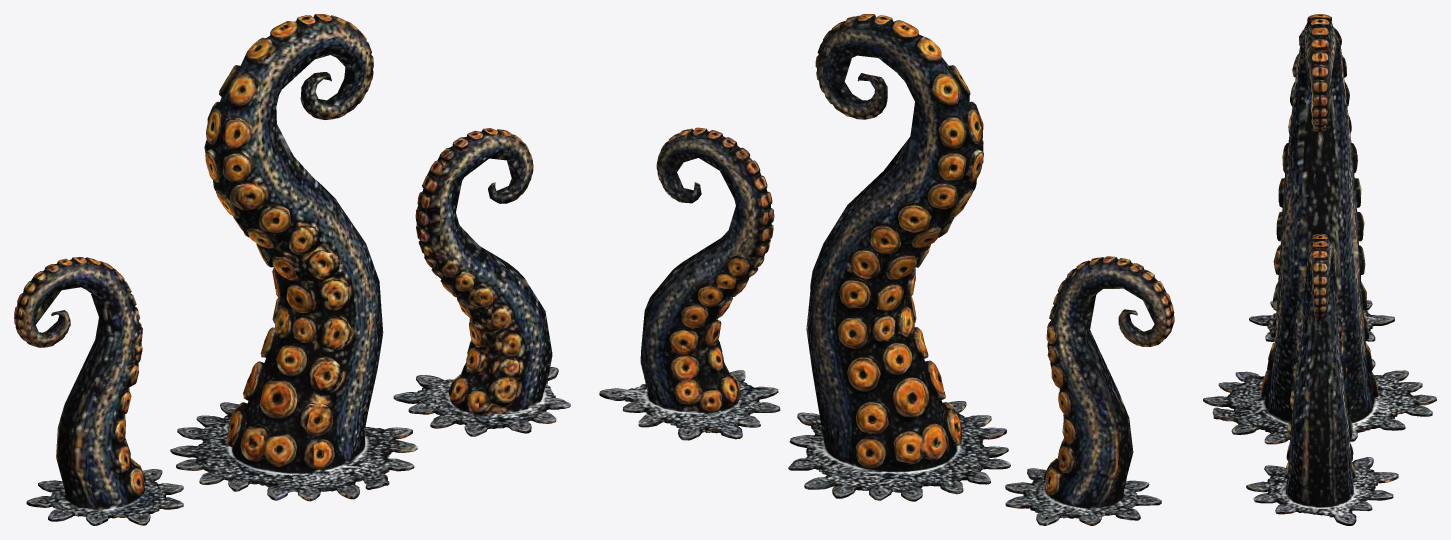
The model's file is tentacle-small.glb.
The picture shows the model from 3 angles, left to right: view 1: azimuth 30°, elevation 25°; view 2: azimuth 150°, elevation 25°; view 3: azimuth 270°, elevation 25°; orthographic projection. The views are drawn at different scales.
Parts seen in each view (by area): view 1: mesh; view 2: mesh; view 3: mesh.
Part boxes in pixels (box(x1,y1,x2,y2)): mesh: box(14, 14, 570, 525); mesh: box(599, 14, 1174, 525); mesh: box(1203, 14, 1436, 525).
Size of the model in its own units: 2 by 1.47 by 0.8051.
Materials: 1 (1 with a texture image).
